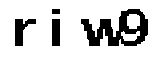9: (121, 6, 148, 51)
i: (45, 5, 66, 53)
r: (6, 15, 39, 51)
w: (74, 14, 122, 53)
